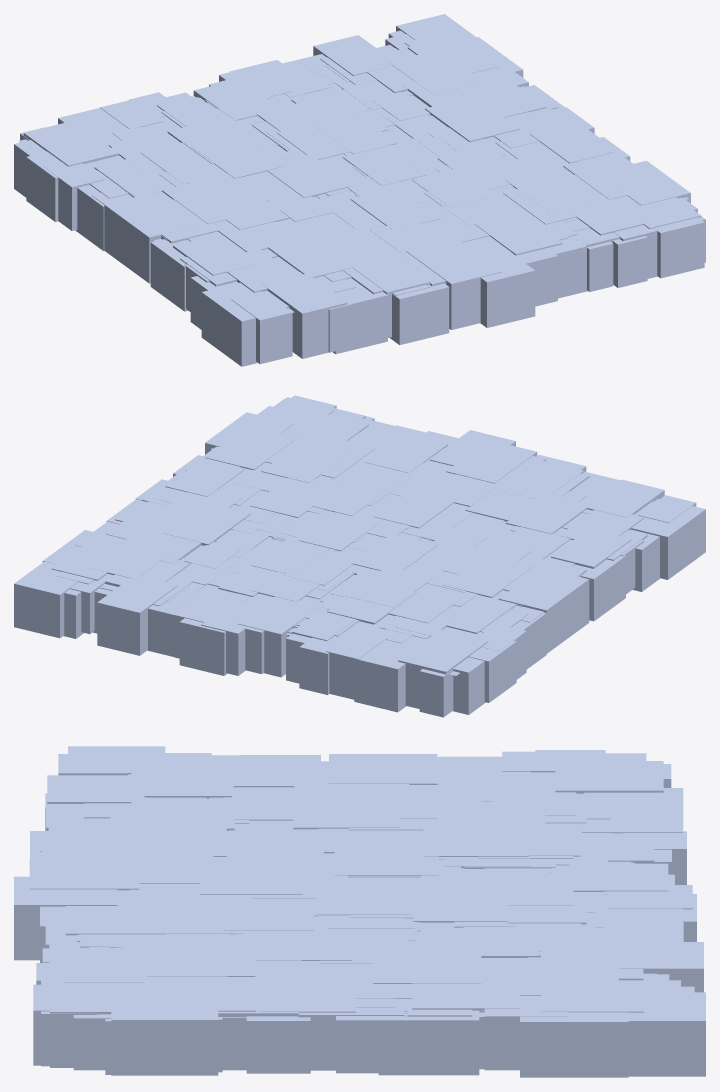
File: Blocky_Platform_Unity.fbx
3 views of the same model, one above another, from view 1: azimuth 30°, elevation 25°; view 2: azimuth 150°, elevation 25°; view 3: azimuth 270°, elevation 25° (orthographic). The views are drawn at different scales.
Parts seen in each view (by area): view 1: Blocky_Platform; view 2: Blocky_Platform; view 3: Blocky_Platform.
Boxes of the visible parts, bbox=[...] form: Blocky_Platform: bbox=[14, 14, 705, 366]; Blocky_Platform: bbox=[14, 395, 705, 717]; Blocky_Platform: bbox=[14, 746, 705, 1077].
Size of the model in its own units: 6154 by 611 by 6510.
